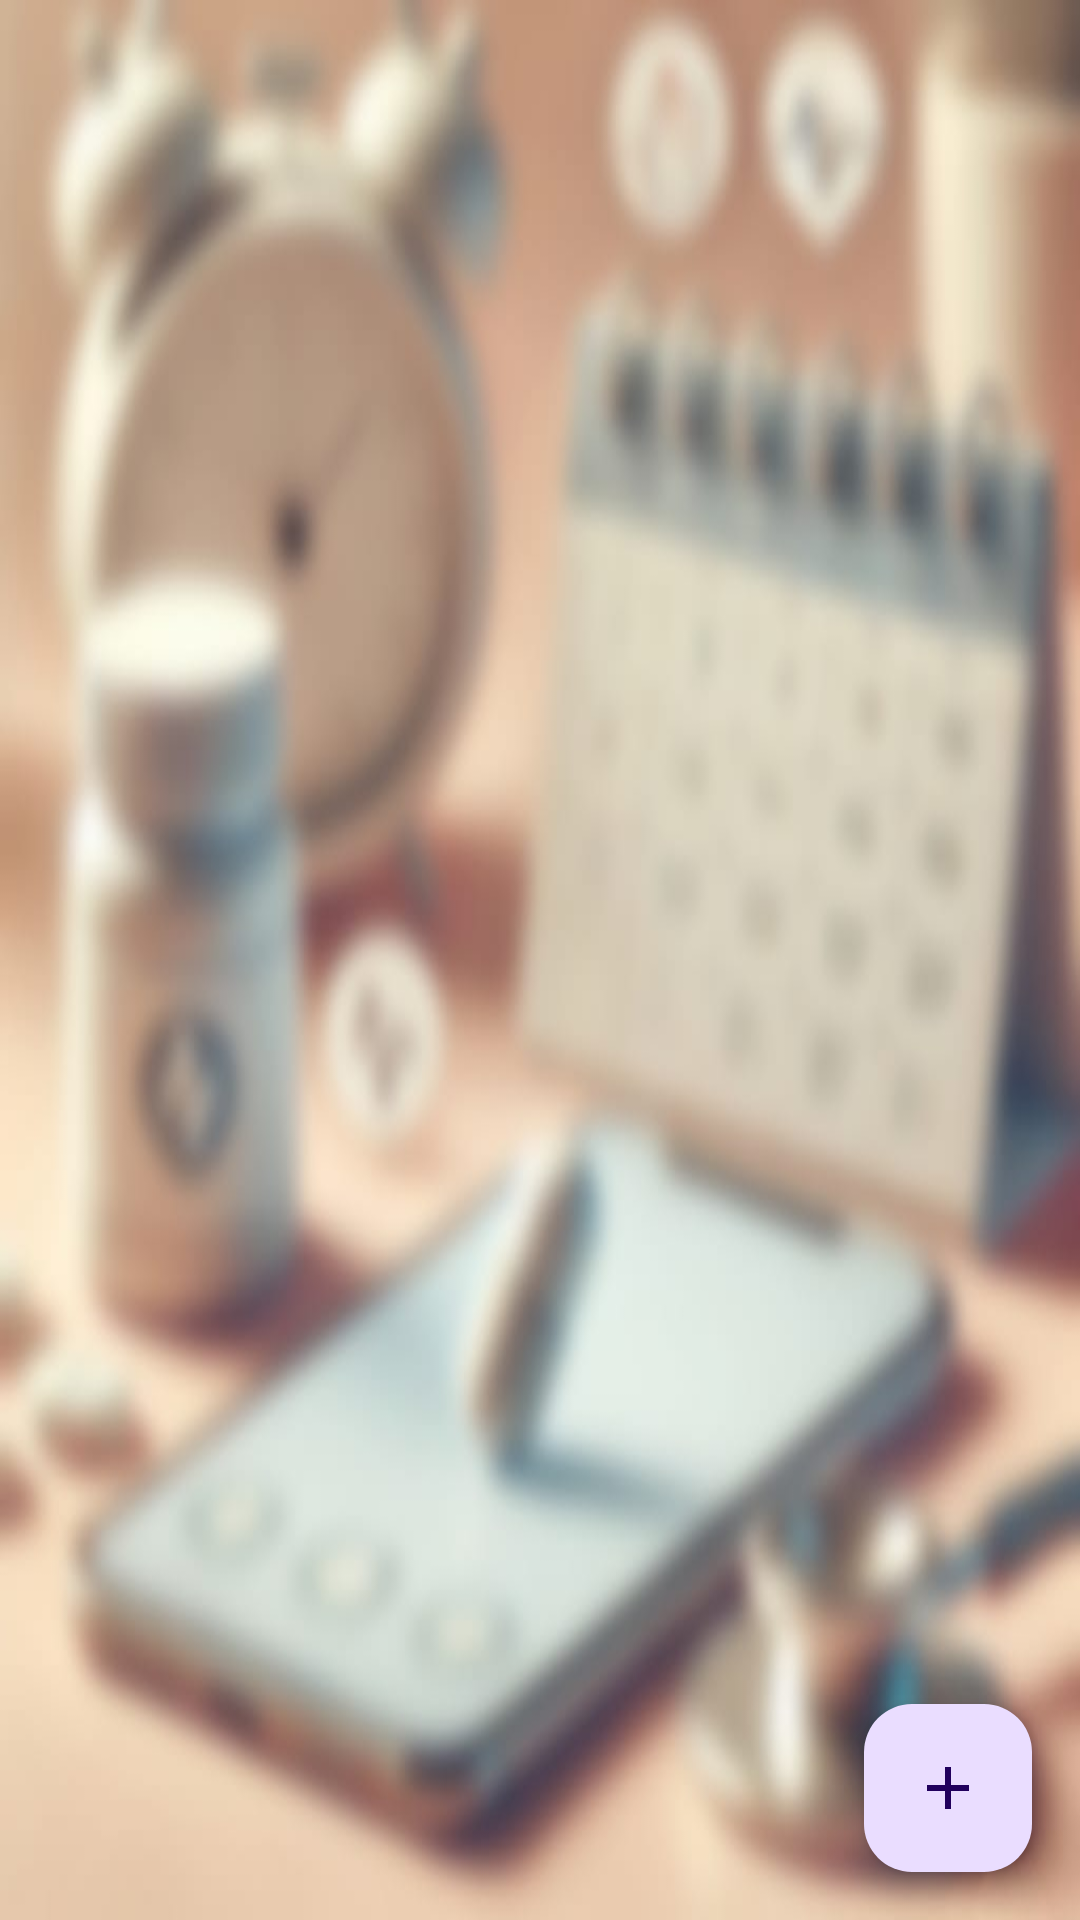

Icon click points for this 1080*1920 phone screenshot, format (x,y):
Add Medicine Reminder: (948,1788)
